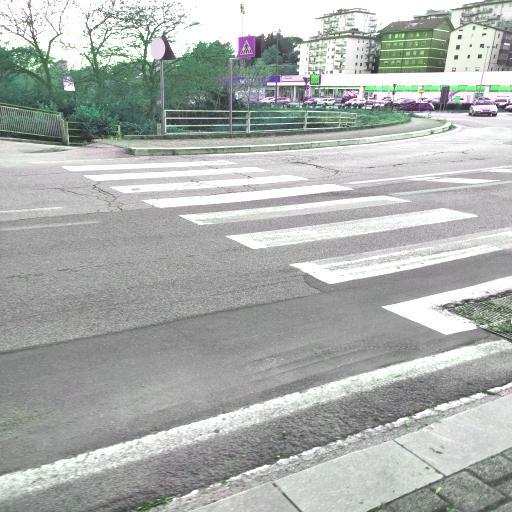crosswalk: (161, 192, 481, 254)
